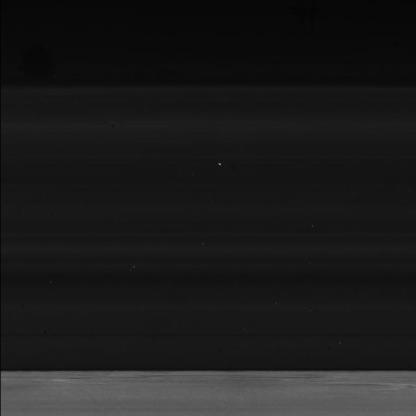silk_spot: (23, 374, 416, 402)
